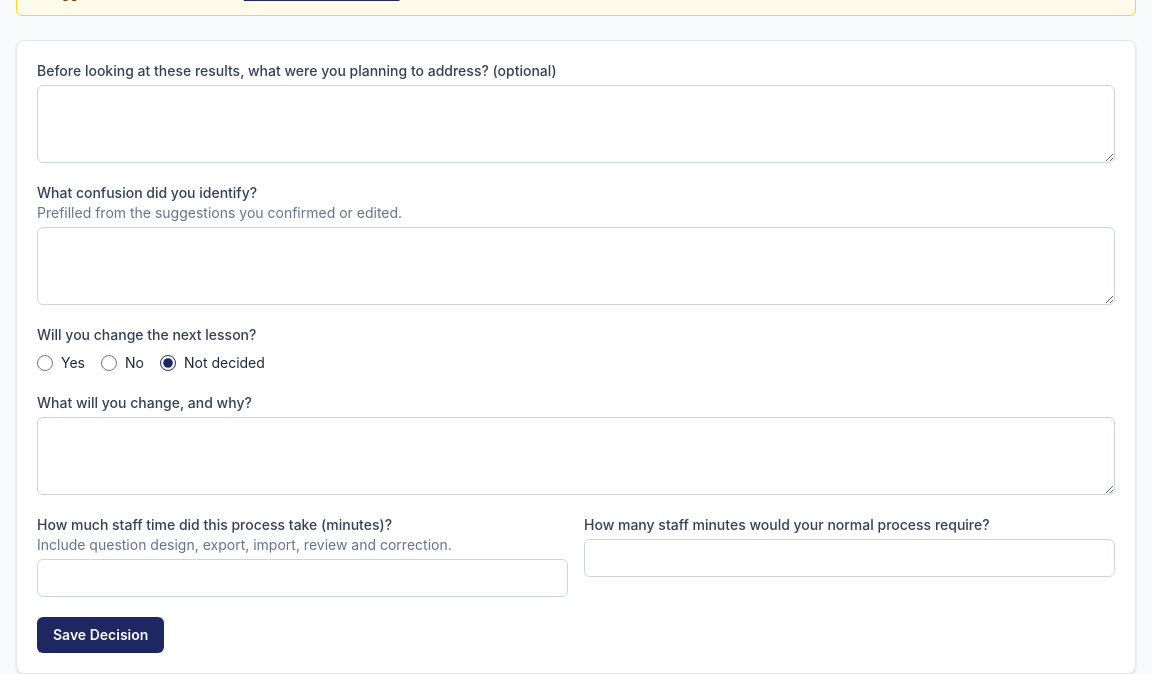
Test: workload readout says "within baseline" / "over the 10-minute target" correctly
(page scrolled)
Type "8" into the number field labelled "How much staff time did this process take (minutes)?".
click(302, 578); type("8")  # box [37, 559, 568, 597]
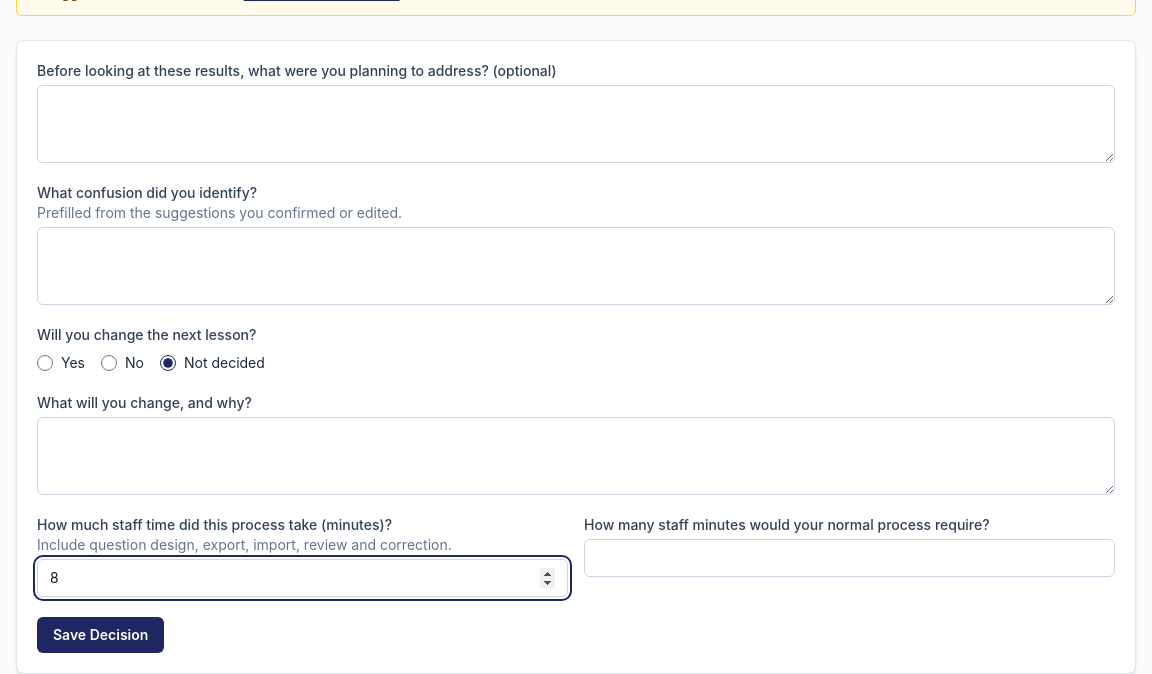
Type "20" into the number field labelled "How many staff minutes would your normal process require?".
click(850, 558); type("20")  # box [584, 539, 1115, 577]
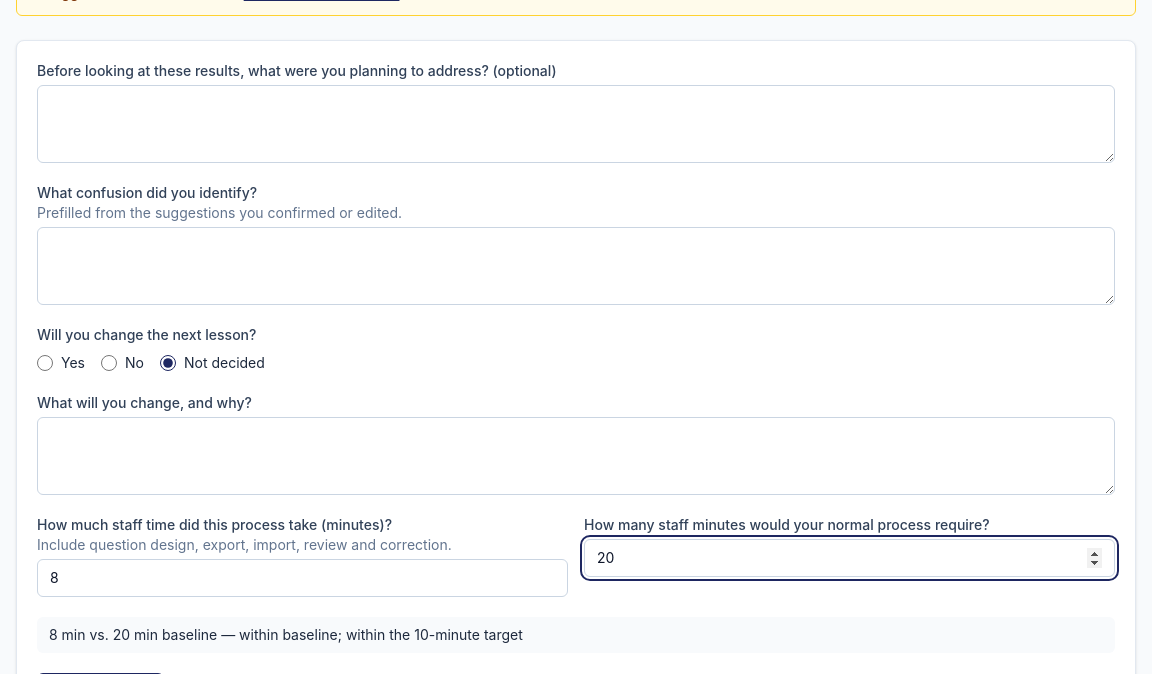
Now the text "8 min vs. 20 min baseline — within baseline; within the 10-minute target" is shown, box [37, 617, 1115, 653]
Replace the text in the number field labelled "How much staff time did this process take (minutes)?" with "12" at (302,578), box [37, 559, 568, 597]
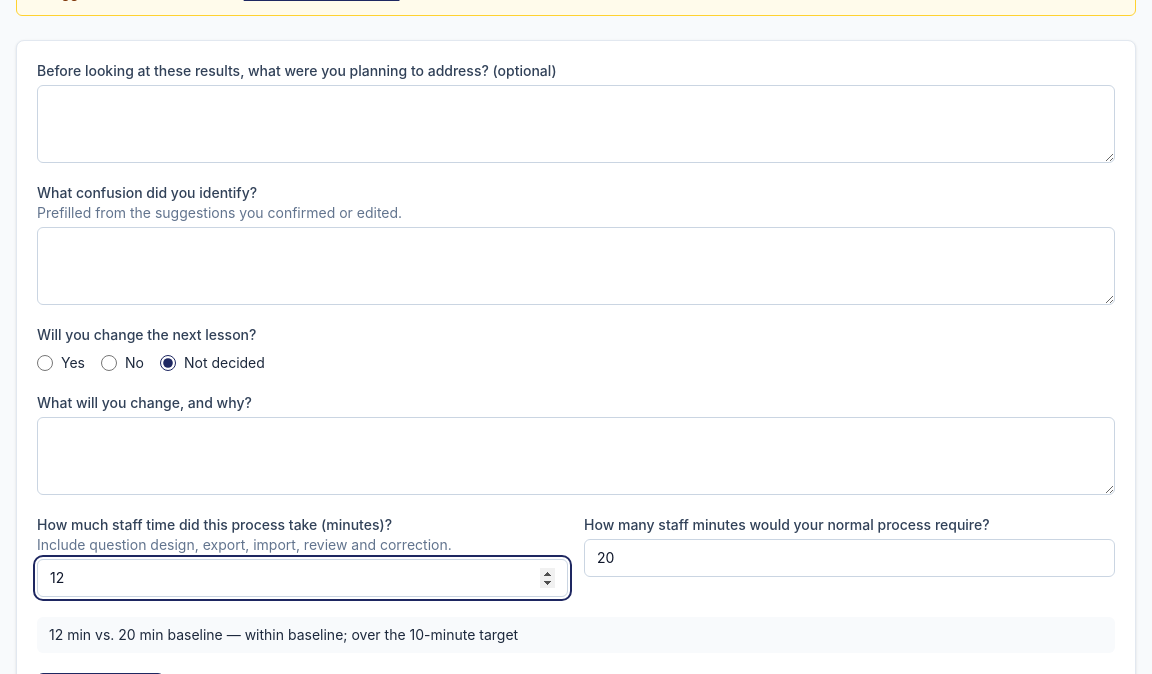
Replace the text in the number field labelled "How many staff minutes would your normal process require?" with "10" at (850,558), box [584, 539, 1115, 577]
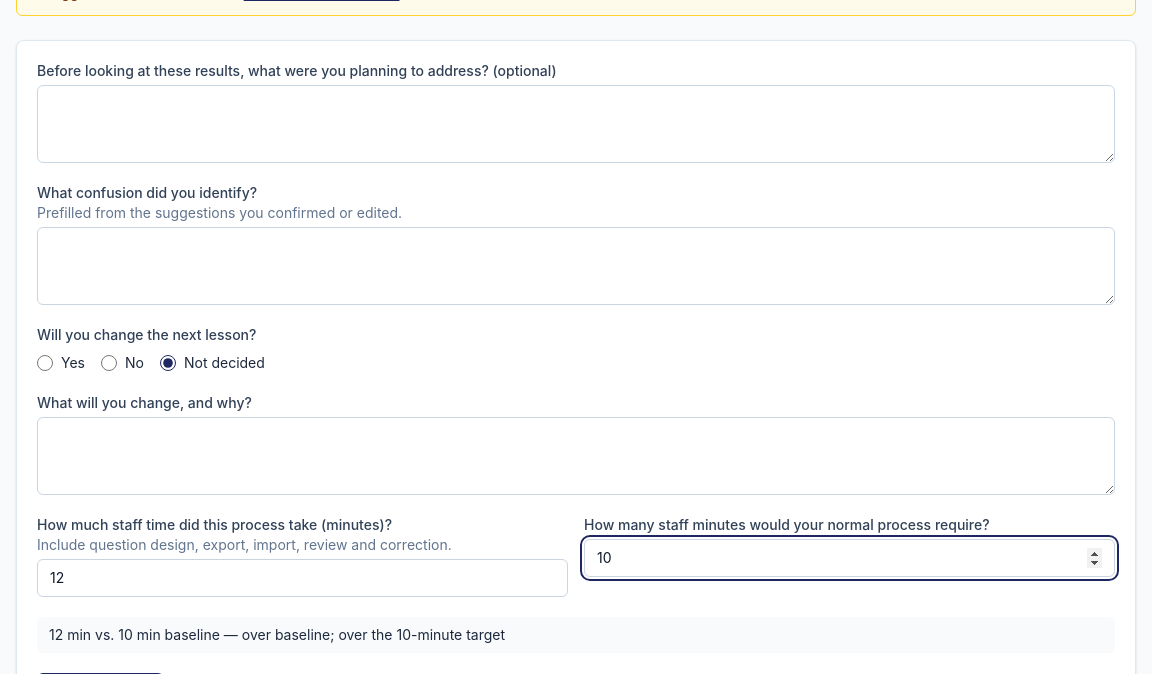
Now the text "12 min vs. 10 min baseline — over baseline; over the 10-minute target" is shown, box [37, 617, 1115, 653]
